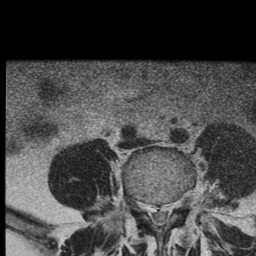CCS_normal: (154, 192, 164, 238)
LFS_normal: (173, 189, 184, 218)
LLS_normal: (164, 194, 173, 229)
RFS_normal: (137, 192, 145, 222)
RLS_normal: (145, 194, 154, 229)
